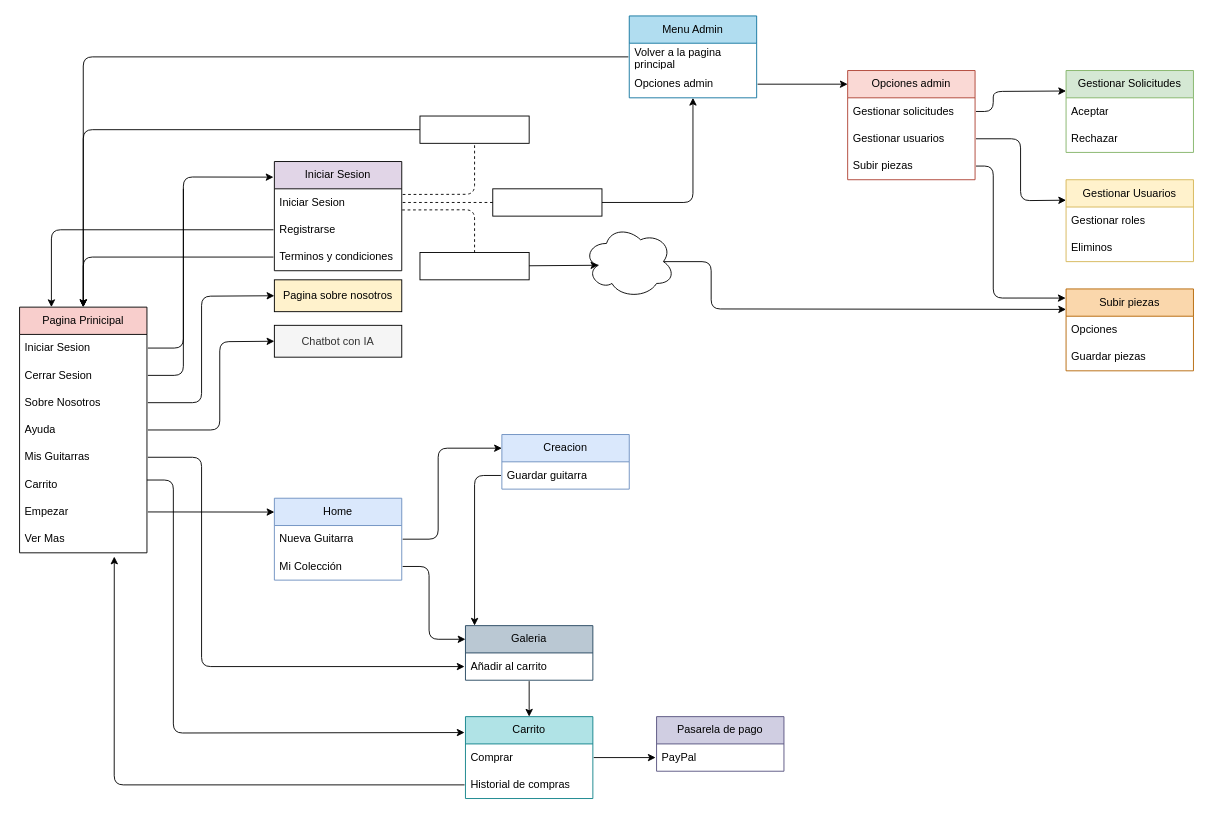
Some shapes in this 1214 by 821 pixel diagram are drawn without their labels. The shapes that lost their labels are listed below. From the top down, each one's centre as x and y in pixels, then its label:
At (474,129): "Usuario Normal".
At (547,202): "Admin".
At (474,266): "Distribuidor".
At (629,261): "Depende de admin".
